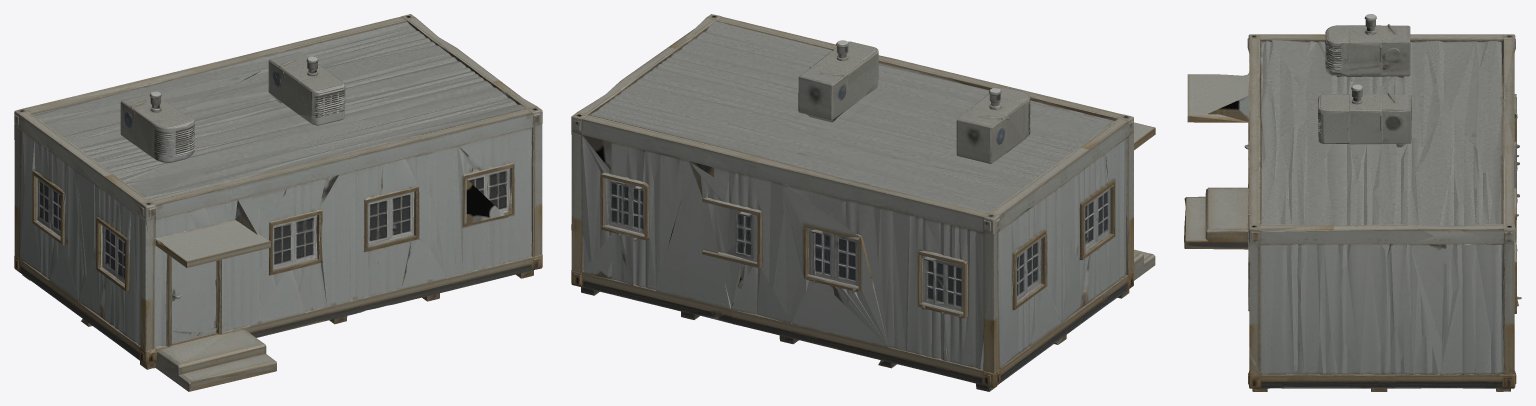
Rendered from web.glb.
The picture shows the model from 3 angles, left to right: view 1: azimuth 30°, elevation 25°; view 2: azimuth 150°, elevation 25°; view 3: azimuth 270°, elevation 25°; orthographic projection. The views are drawn at different scales.
Parts seen in each view (by area): view 1: output_unwrapped; view 2: output_unwrapped; view 3: output_unwrapped.
Boxes of the visible parts, x1,y1,x2,y2 form: output_unwrapped: (14,14,542,391); output_unwrapped: (571,14,1155,391); output_unwrapped: (1184,14,1521,391).
Size of the model in its own units: 1.9 by 1 by 1.38.
Materials: 1 (1 with a texture image).
